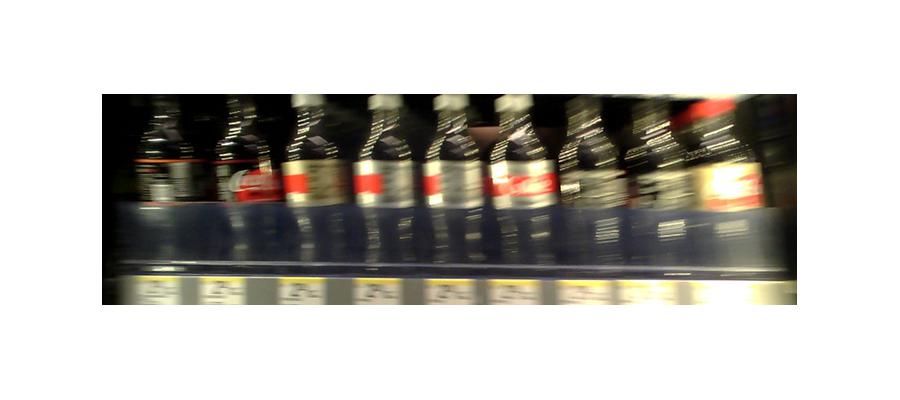bottle: (286, 100, 351, 268), (561, 108, 626, 274), (354, 95, 417, 266), (425, 100, 490, 264), (691, 107, 759, 262), (498, 92, 556, 265), (225, 123, 280, 271)
